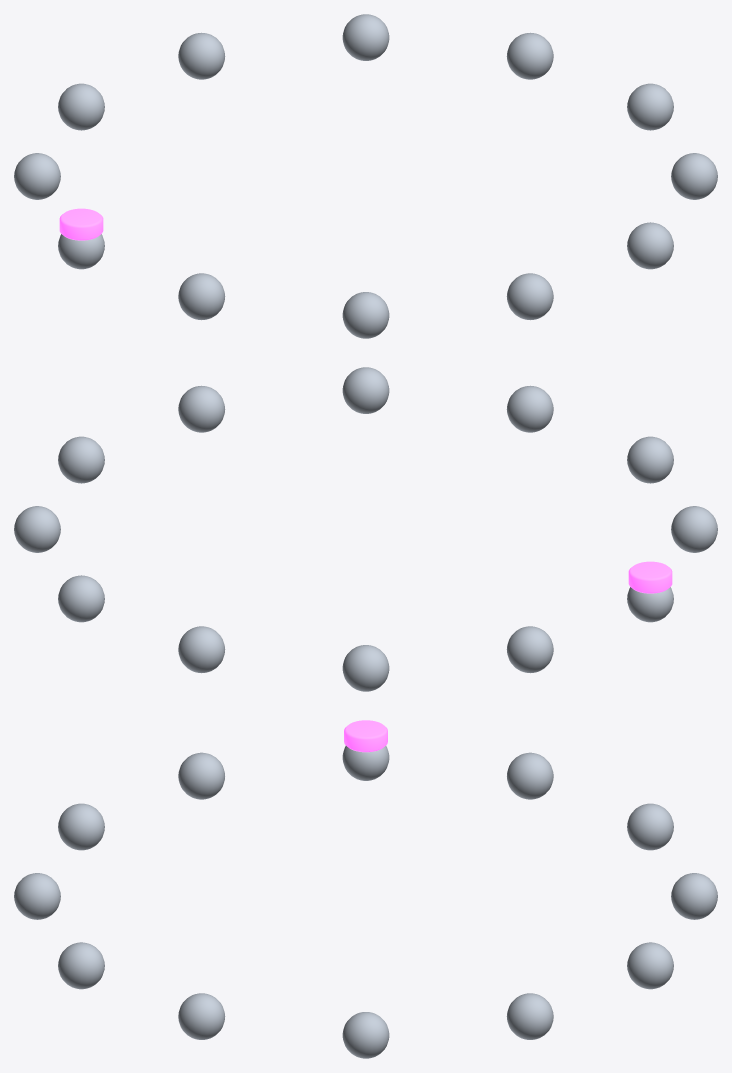
File: tower_arc_range_s2.glb
The picture shows the model from 3 angles, top to bottom: view 1: azimuth 30°, elevation 25°; view 2: azimuth 150°, elevation 25°; view 3: azimuth 270°, elevation 25°; orthographic projection.
Parts seen in each view (by area): view 1: arc_relay_knob1, arc_relay_knob7, arc_relay_knob3, arc_relay_knob5, arc_relay_knob9, arc_relay_knob11, arc_relay_knob2, arc_relay_knob6, arc_relay_knob8, arc_relay_knob4, arc_relay_knob10, arc_up_range_l2_stud (+1 smaller); view 2: arc_relay_knob5, arc_relay_knob11, arc_relay_knob1, arc_relay_knob3, arc_relay_knob7, arc_relay_knob9, arc_relay_knob4, arc_relay_knob6, arc_relay_knob10, arc_relay_knob2, arc_relay_knob8, arc_up_range_l2_stud (+1 smaller); view 3: arc_relay_knob3, arc_relay_knob9, arc_relay_knob5, arc_relay_knob7, arc_relay_knob1, arc_relay_knob11, arc_relay_knob2, arc_relay_knob10, arc_relay_knob6, arc_relay_knob4, arc_relay_knob8, arc_up_range_l2_stud (+1 smaller).
Boxes of the visible parts, box(x1,y1,x2,y2) form: arc_relay_knob1: box(14, 153, 60, 199); arc_relay_knob7: box(671, 153, 717, 199); arc_relay_knob3: box(178, 32, 225, 79); arc_relay_knob5: box(506, 32, 553, 79); arc_relay_knob9: box(506, 273, 553, 320); arc_relay_knob11: box(178, 273, 225, 320); arc_relay_knob2: box(58, 83, 104, 130); arc_relay_knob6: box(627, 83, 673, 130); arc_relay_knob8: box(627, 222, 673, 269); arc_relay_knob4: box(342, 14, 389, 60); arc_relay_knob10: box(342, 292, 389, 338); arc_up_range_l2_stud: box(59, 208, 103, 240); arc_relay_knob5: box(14, 506, 60, 552); arc_relay_knob11: box(671, 506, 717, 552); arc_relay_knob1: box(506, 626, 553, 673); arc_relay_knob3: box(178, 626, 225, 673); arc_relay_knob7: box(178, 385, 225, 432); arc_relay_knob9: box(506, 385, 553, 432); arc_relay_knob4: box(58, 575, 104, 622); arc_relay_knob6: box(58, 436, 104, 483); arc_relay_knob10: box(627, 436, 673, 483); arc_relay_knob2: box(342, 645, 389, 691); arc_relay_knob8: box(342, 367, 389, 413); arc_up_range_l2_stud: box(628, 561, 672, 593); arc_relay_knob3: box(671, 873, 717, 919); arc_relay_knob9: box(14, 873, 60, 919); arc_relay_knob5: box(506, 993, 553, 1039); arc_relay_knob7: box(178, 993, 225, 1039); arc_relay_knob1: box(507, 752, 553, 799); arc_relay_knob11: box(178, 752, 224, 799); arc_relay_knob2: box(627, 803, 673, 850); arc_relay_knob10: box(58, 803, 104, 850); arc_relay_knob6: box(342, 1012, 389, 1058); arc_relay_knob4: box(627, 942, 673, 989); arc_relay_knob8: box(58, 942, 104, 989); arc_up_range_l2_stud: box(344, 720, 387, 752).
Size of the model in its own units: 0.9 by 0.071 by 0.9.
